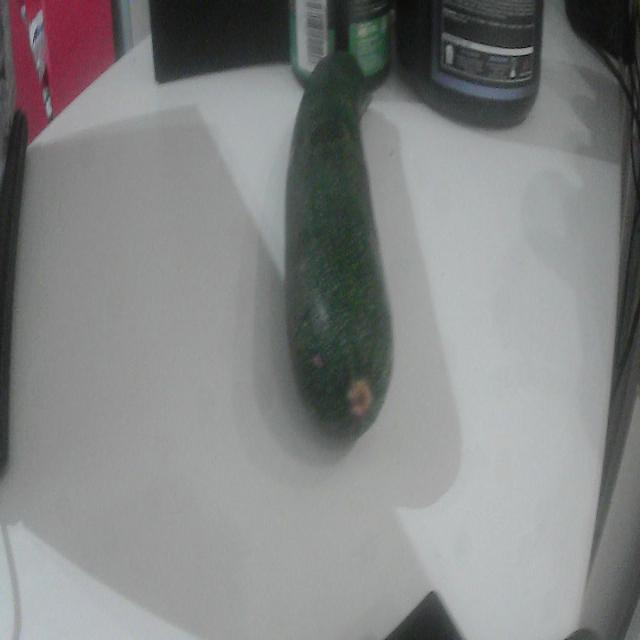Courgette: (284, 50, 392, 445)
